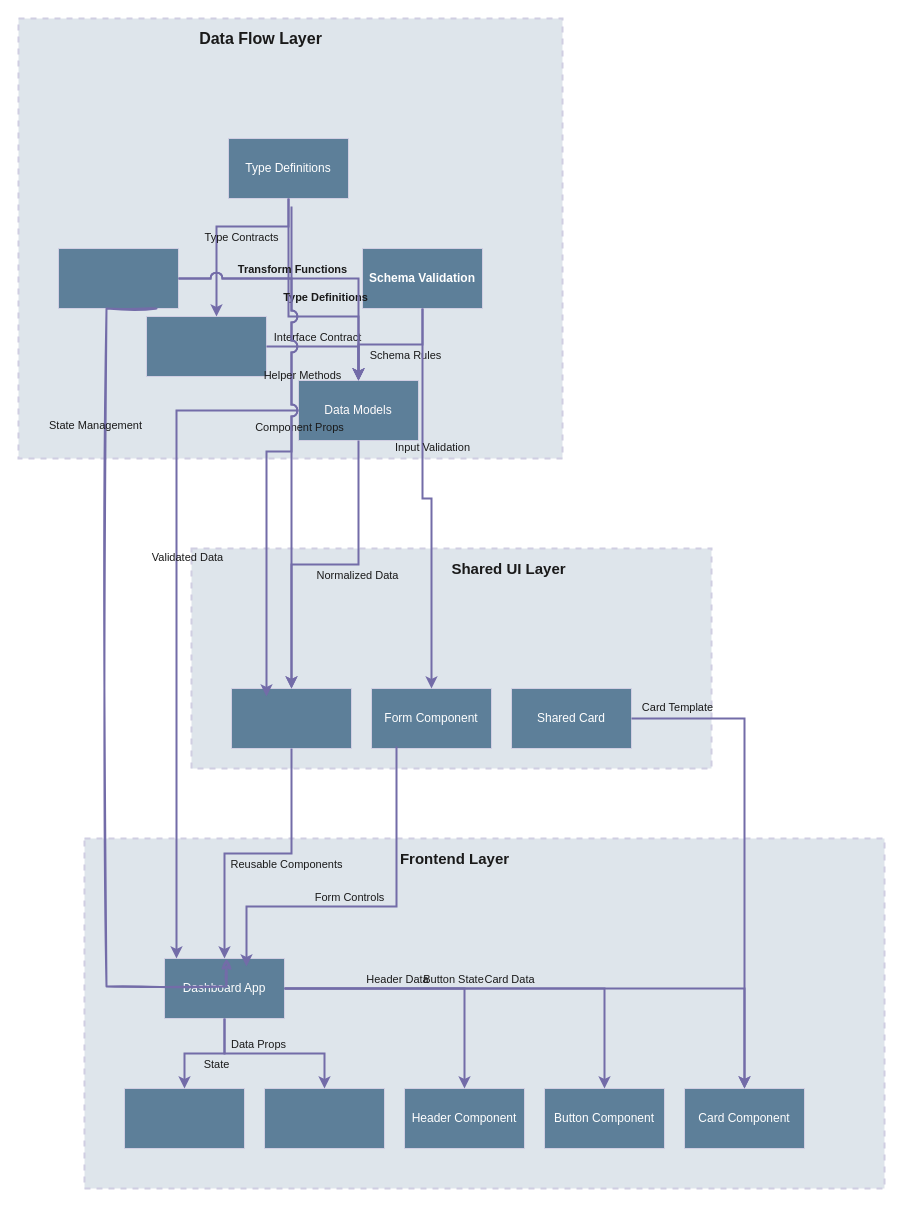
Some shapes in this 902 by 1206 pixel diagram are drawn without their labels. The shapes that lost their labels are listed below. From the top down, each one's centre as x and y in pixels, then its label:
the point at 118,278: Utilities
the point at 206,346: Shared API
the point at 291,718: Shared UI Library
the point at 184,1118: Sidebar Component
the point at 324,1118: Table Component
